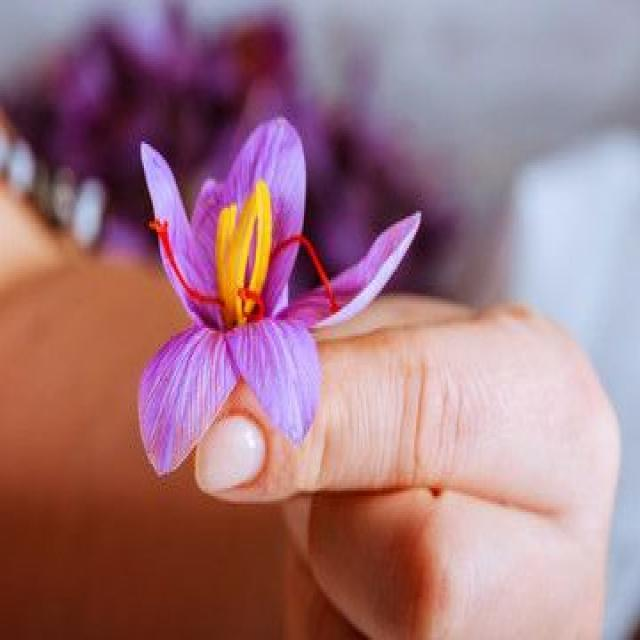Flower: (140, 118, 420, 474)
stigma: (146, 212, 224, 306), (268, 232, 344, 319), (232, 281, 270, 324)
